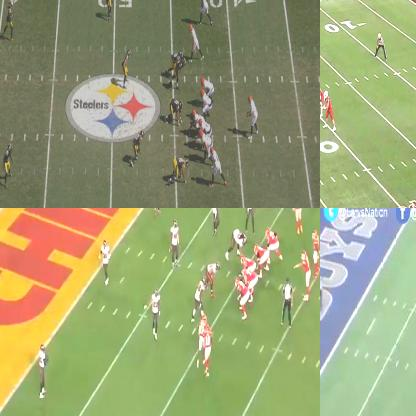CENTER: (191, 108, 201, 134), (241, 256, 255, 272)
DB: (99, 238, 111, 284), (38, 347, 48, 394), (150, 290, 158, 336), (7, 1, 15, 43), (6, 144, 13, 180), (106, 0, 115, 23)
LB: (170, 220, 182, 264), (172, 61, 186, 86), (121, 50, 129, 87), (134, 129, 142, 161), (211, 208, 222, 230)
QB: (299, 251, 311, 298), (247, 95, 258, 141), (324, 90, 333, 128)
SKILL: (208, 146, 226, 188), (191, 24, 203, 60), (203, 326, 211, 376), (311, 229, 319, 275), (199, 0, 213, 24), (291, 208, 304, 231), (197, 317, 202, 361), (320, 82, 323, 116)
